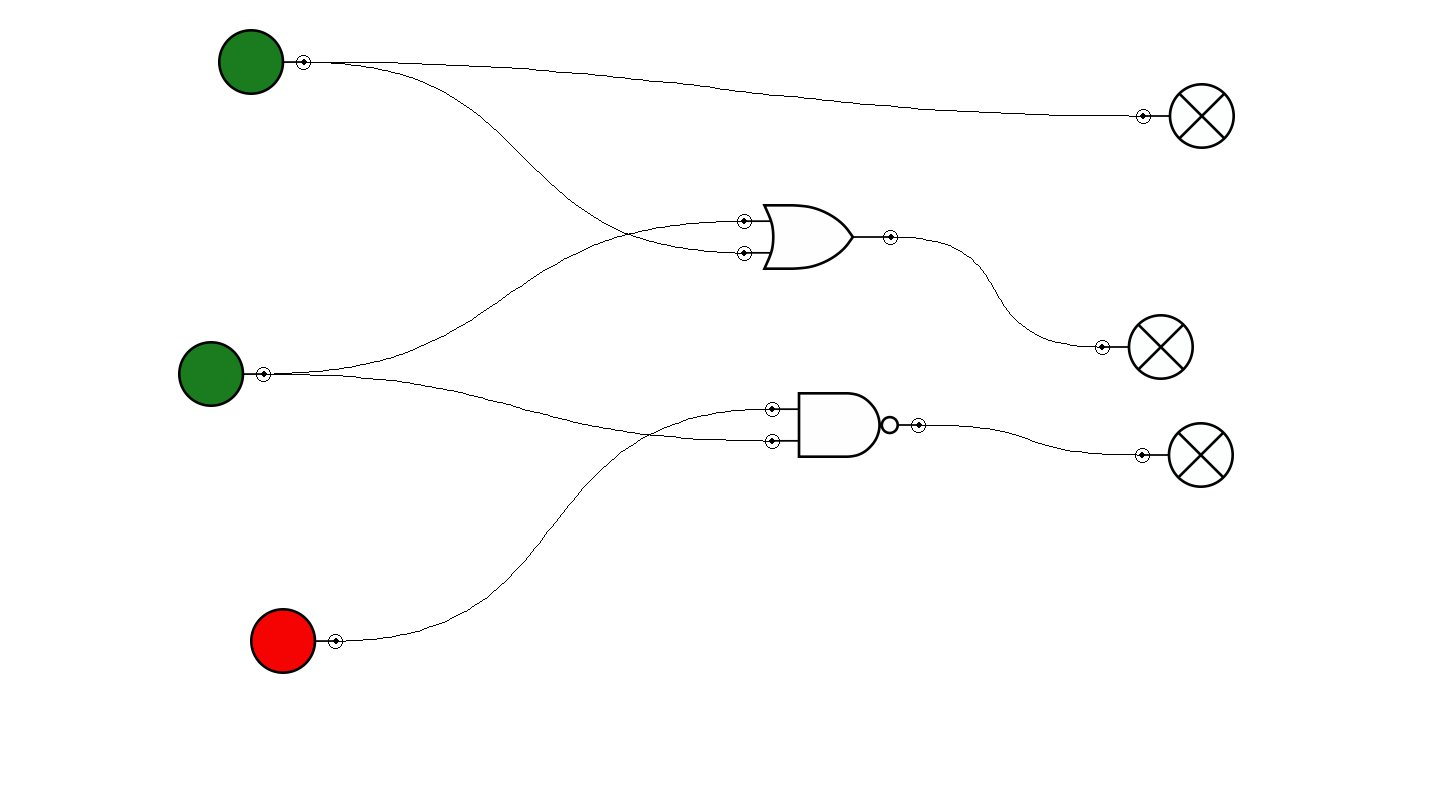bulb: (1135, 422, 1234, 488), (1095, 314, 1194, 380), (1136, 83, 1235, 149)
nand: (765, 392, 926, 458)
or: (737, 204, 898, 270)
switch_False: (250, 608, 343, 674)
switch_True: (218, 29, 311, 95), (178, 341, 271, 407)
